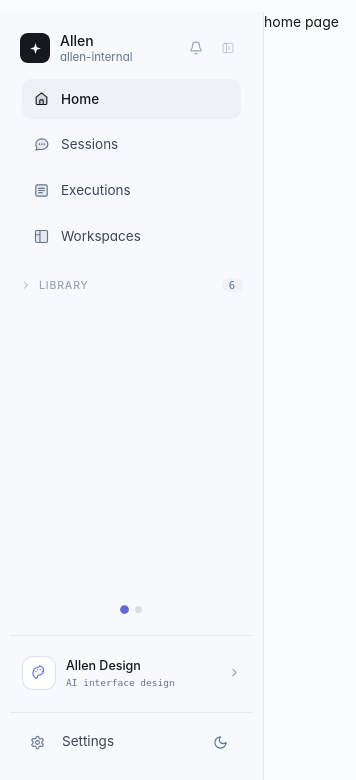
Test: V8 sidebar › renders a persisted, collapsible Library with working destinations
The image size is (356, 780).
Expected: the link "Linear" is not shown
Click the button "Library 6" at (132, 285), box [10,272,253,298]
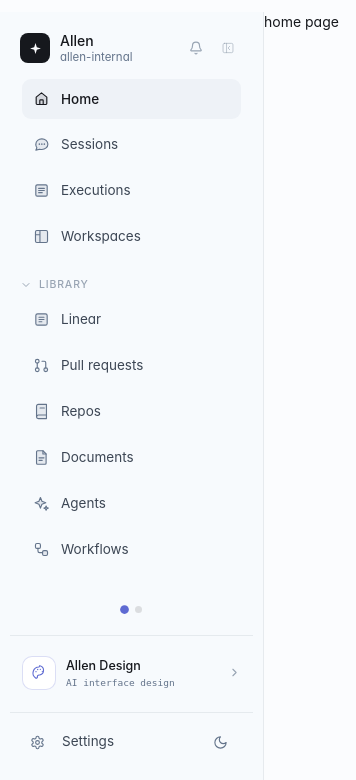
Expected: the button "Library" is expanded, [10,272,253,297]
Expected: the link "Repos" is shown, [33,403,101,420]
Expected: the link "Linear" is shown, [33,311,101,328]
